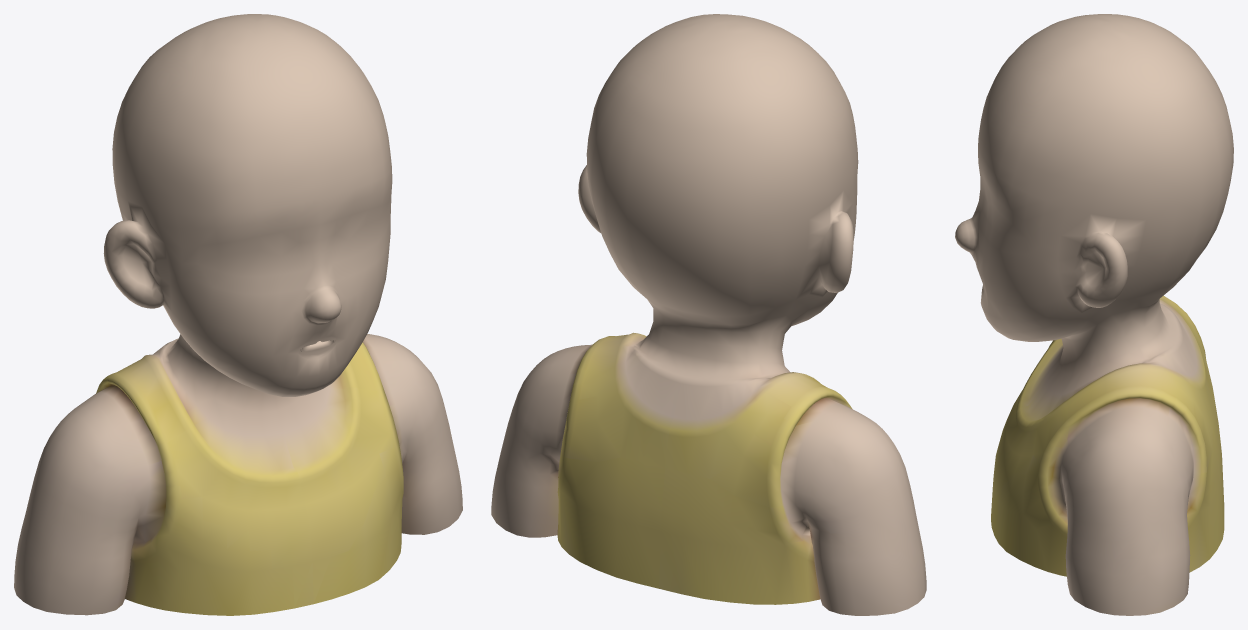
File: UserCharacter_Adapted.glb
3 views of the same model, side by side, from view 1: azimuth 30°, elevation 25°; view 2: azimuth 150°, elevation 25°; view 3: azimuth 270°, elevation 25° (orthographic). The views are drawn at different scales.
Visible parts, largest first — view 1: 完整半身_整体旋转; view 2: 完整半身_整体旋转; view 3: 完整半身_整体旋转.
Part boxes in pixels (x1,y1,x2,y2): 完整半身_整体旋转: (14, 14, 462, 615); 完整半身_整体旋转: (491, 14, 926, 615); 完整半身_整体旋转: (955, 14, 1233, 615).
Bounding box in the file's own units: 1.99 × 2.35 × 1.21.
